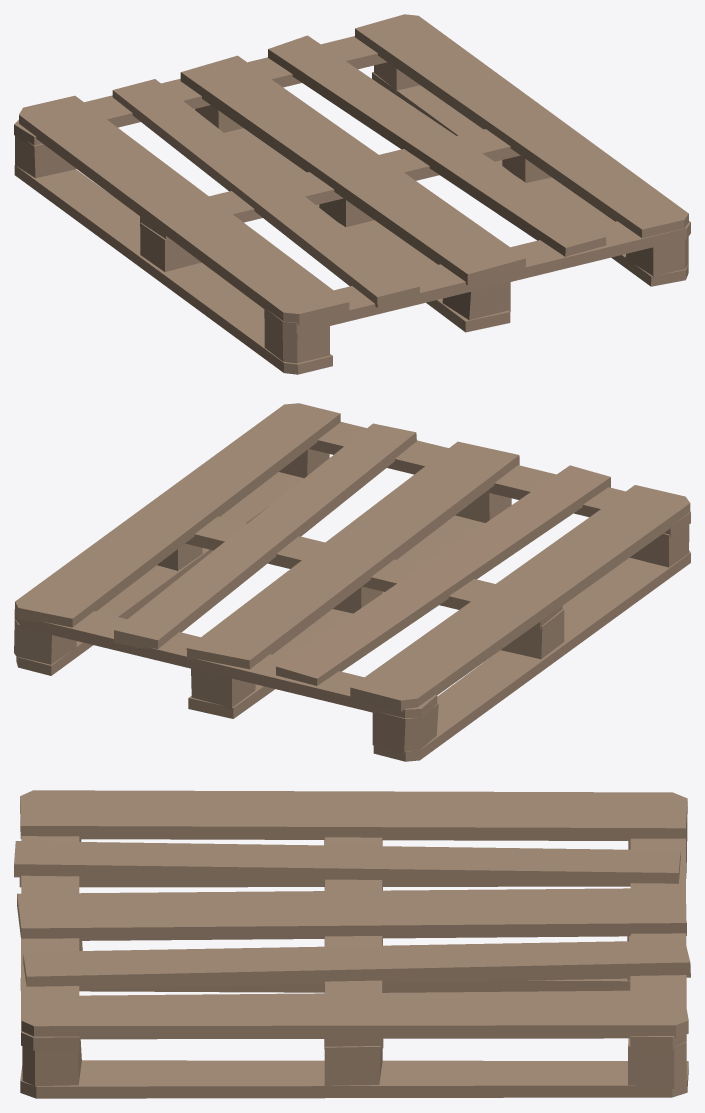
Rendered from Caje.fbx.
3 views of the same model, one above another, from view 1: azimuth 30°, elevation 25°; view 2: azimuth 150°, elevation 25°; view 3: azimuth 270°, elevation 25° (orthographic). The views are drawn at different scales.
Parts seen in each view (by area): view 1: polySurface14; view 2: polySurface14; view 3: polySurface14.
Part boxes in pixels (x1,y1,x2,y2): polySurface14: [14, 14, 690, 374]; polySurface14: [14, 403, 690, 761]; polySurface14: [14, 790, 690, 1098].
Bounding box in the file's own units: 102 × 14.88 × 123.
